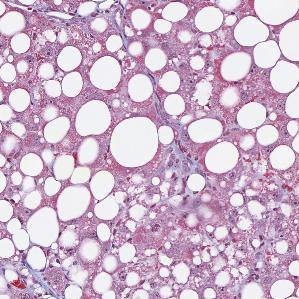fibrosis: (149, 145, 204, 187)
